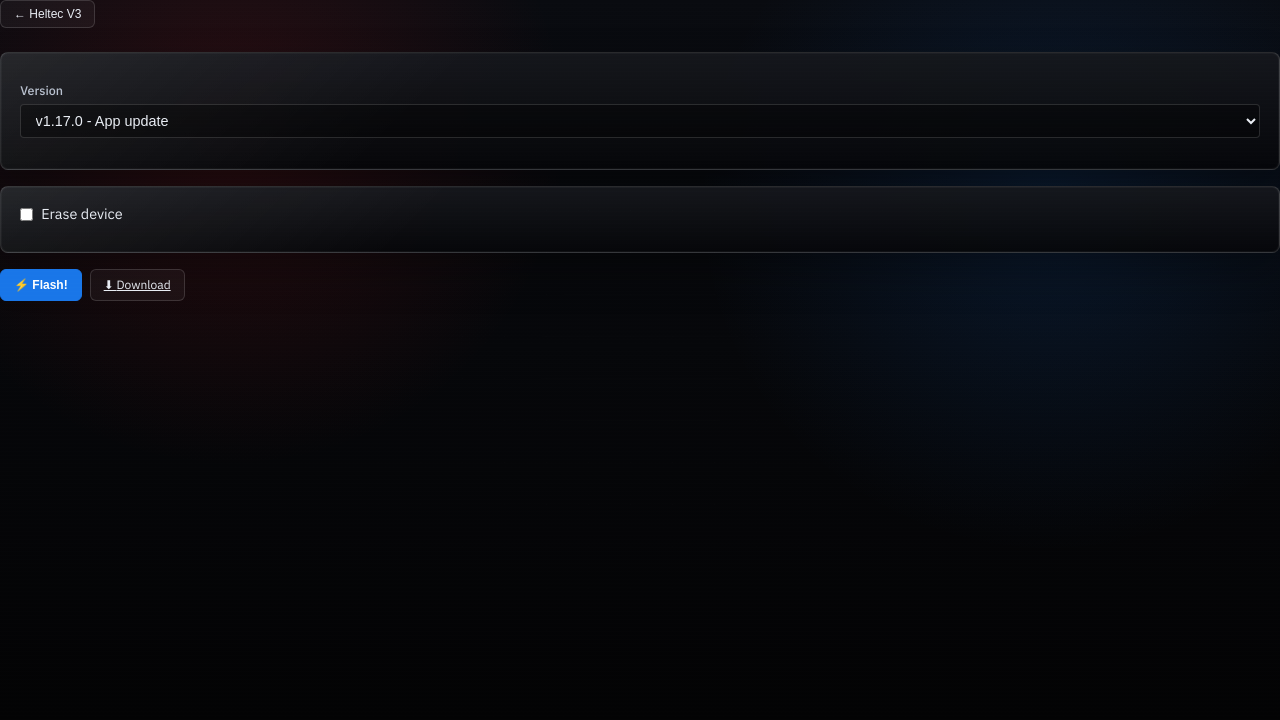
Test: FlashOptions › warns about the merged image when flashing an observer App-update version
The width and height of the screenshot is (1280, 720).
Click the button "⚡ Flash!" at coordinates (41, 285), box [0,269,82,301]
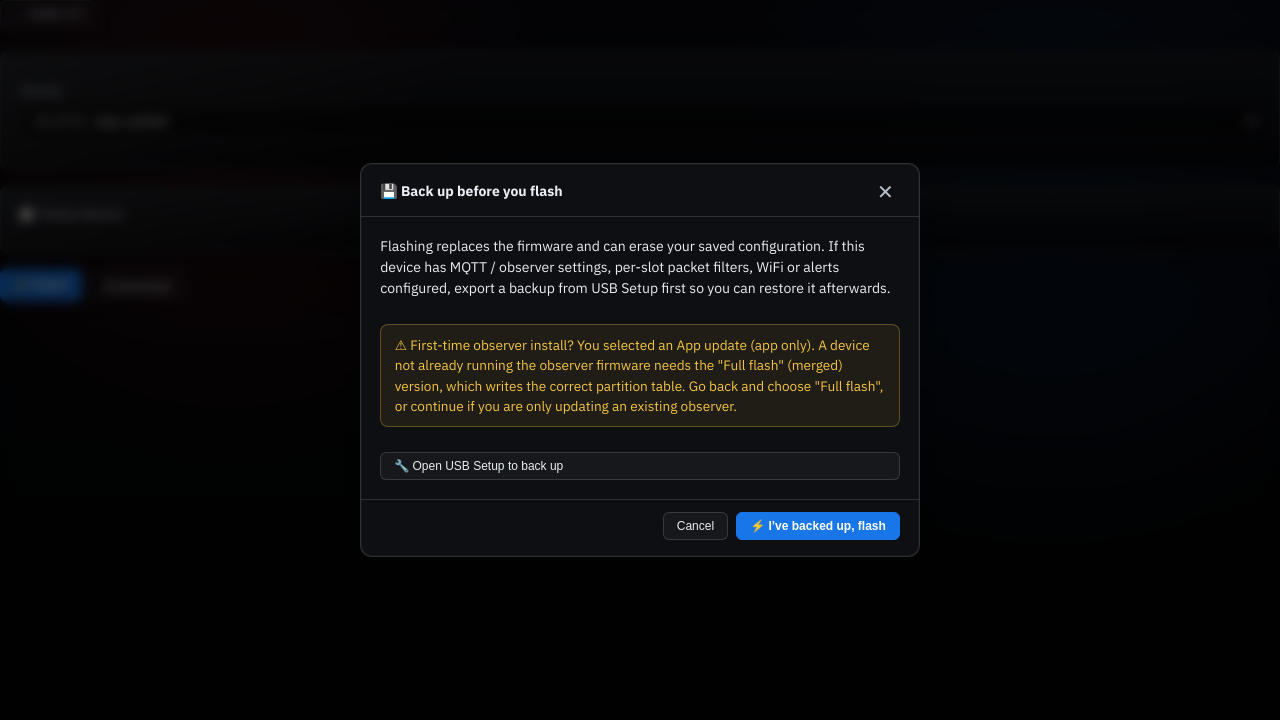
expect the text "First-time observer install" is shown: met, box [395,336,883,415]
